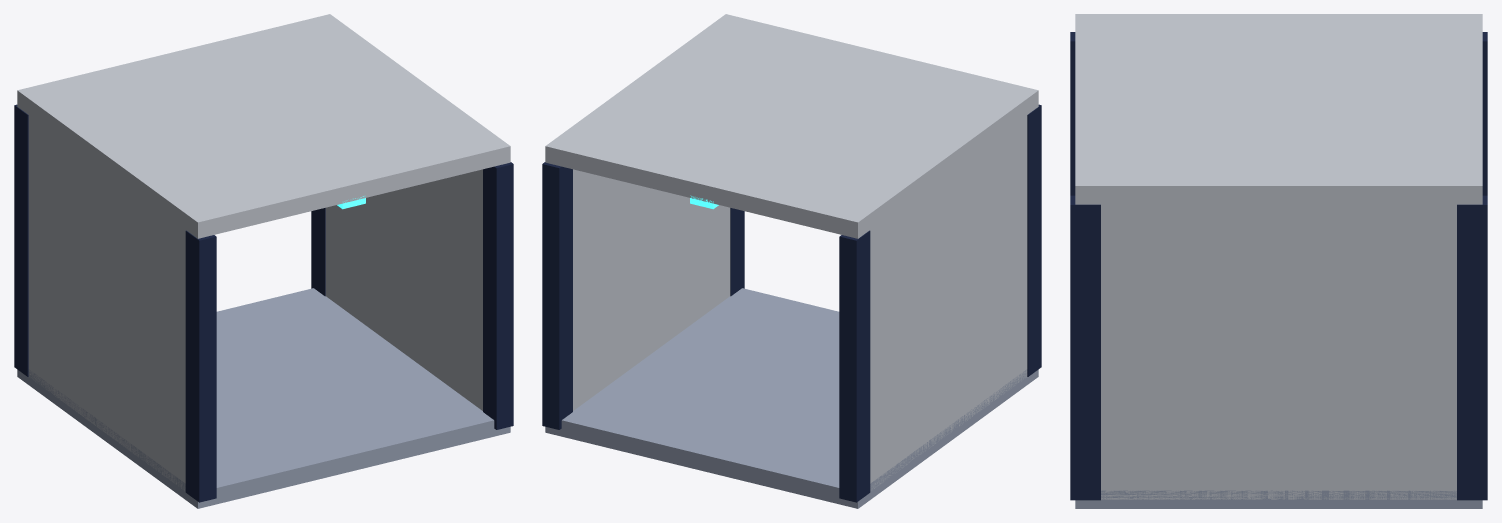
The model's file is stationpack-corridor-straight.glb.
3 renders of one model, left to right at view 1: azimuth 30°, elevation 25°; view 2: azimuth 150°, elevation 25°; view 3: azimuth 270°, elevation 25°, orthographic. The views are drawn at different scales.
Visible parts, largest first — view 1: corridor_straight; view 2: corridor_straight; view 3: corridor_straight.
Boxes of the visible parts, <box> form: corridor_straight: <box>14,14,513,508</box>; corridor_straight: <box>542,14,1041,508</box>; corridor_straight: <box>1070,14,1487,508</box>.
Size of the model in its own units: 4.02 by 3.5 by 4.1.
